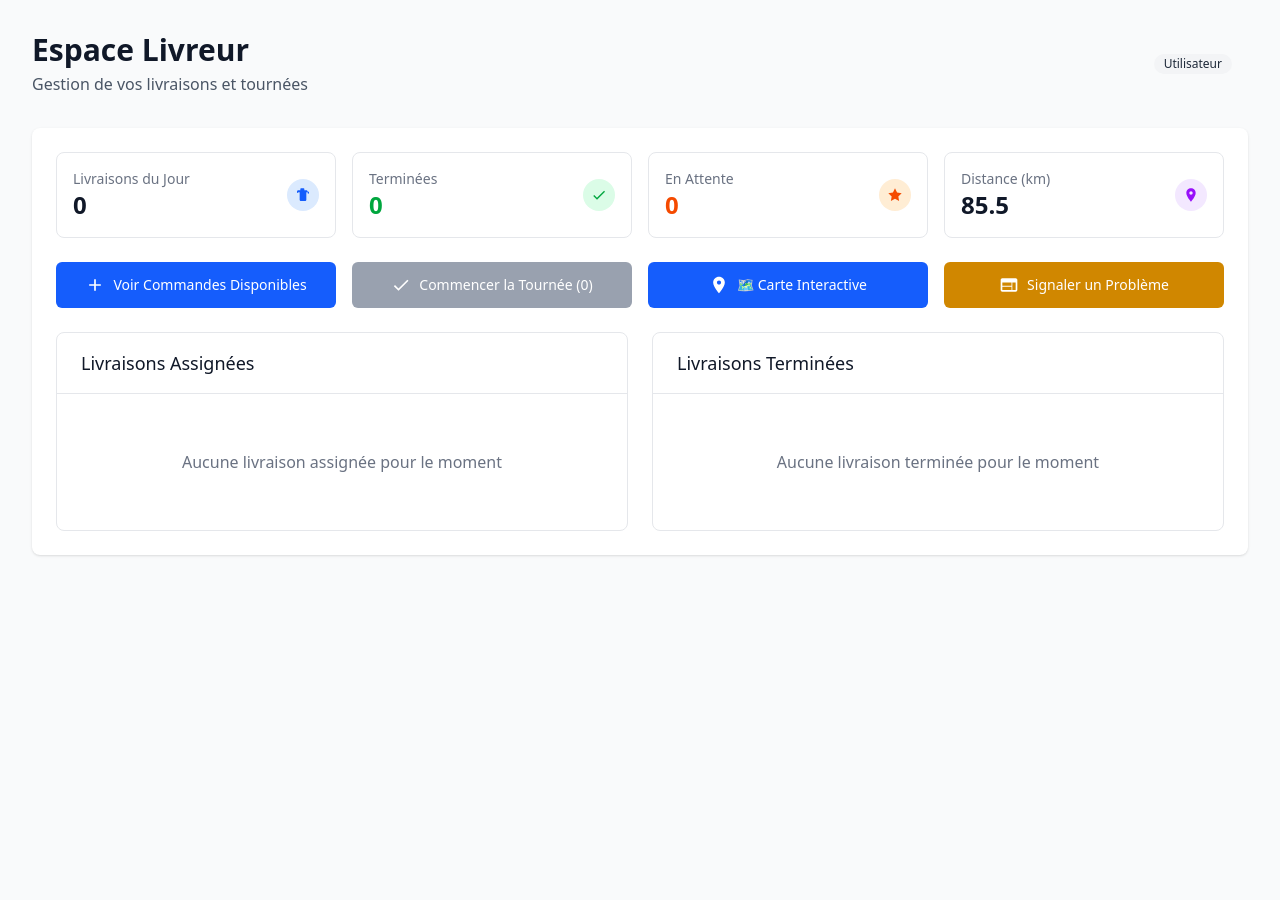
Test: DeliveryPersonDashboard › Available orders modal › should open modal when "Voir Commandes Disponibles" button is clicked
Click the button "Voir Commandes Disponibles" at (196, 285), box left=56, top=262, right=336, bottom=308
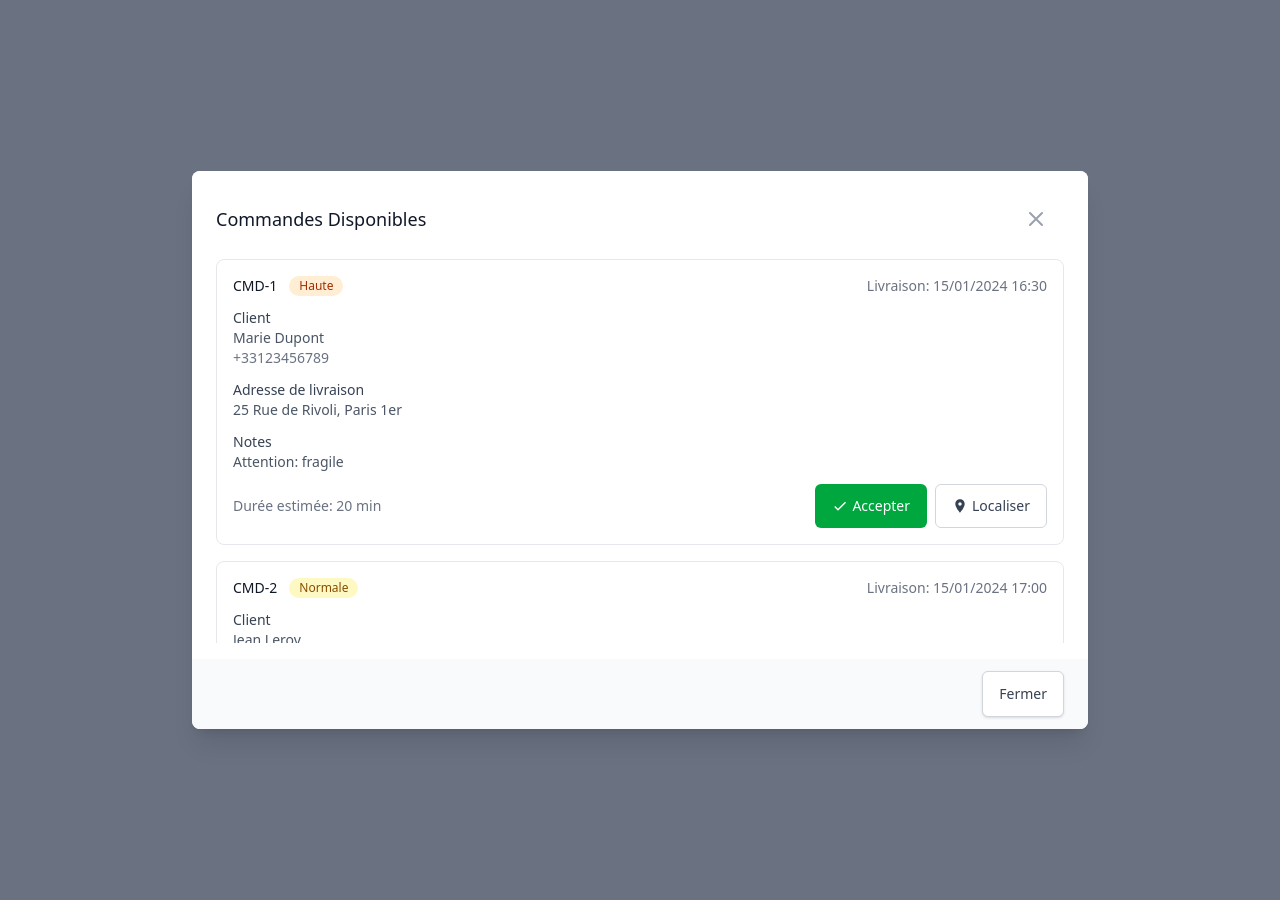
Expected: the heading "Commandes Disponibles" is shown, left=216, top=205, right=426, bottom=233
